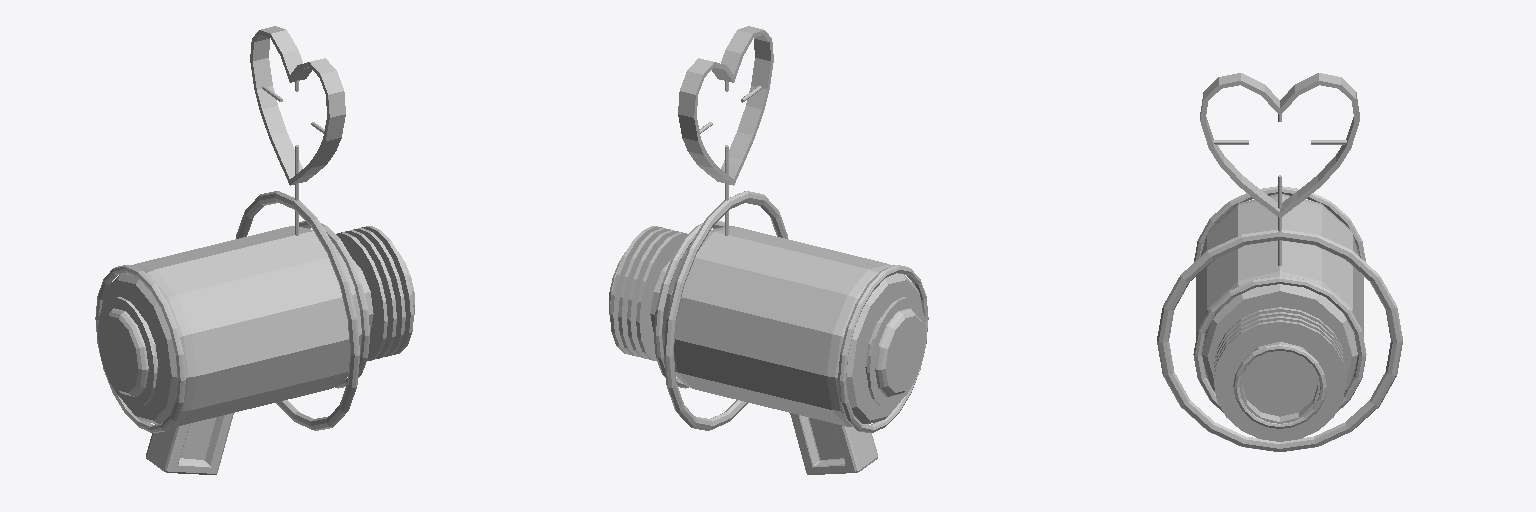
File: FistGunBody.obj
3 renders of one model, left to right at view 1: azimuth 30°, elevation 25°; view 2: azimuth 150°, elevation 25°; view 3: azimuth 270°, elevation 25°, orthographic.
Visible parts, largest first — view 1: polySurface19, textureEditorIsolateSelectSet polySurface19; view 2: polySurface19, textureEditorIsolateSelectSet polySurface19; view 3: polySurface19, textureEditorIsolateSelectSet polySurface19.
Boxes of the visible parts, box(x1,y1,x2,y2) form: polySurface19: box(95, 26, 414, 474); textureEditorIsolateSelectSet polySurface19: box(117, 226, 413, 405); polySurface19: box(609, 26, 928, 474); textureEditorIsolateSelectSet polySurface19: box(610, 226, 906, 405); polySurface19: box(1157, 73, 1402, 451); textureEditorIsolateSelectSet polySurface19: box(1214, 307, 1345, 375).
Size of the model in its own units: 0.5119 by 0.711 by 0.3975.